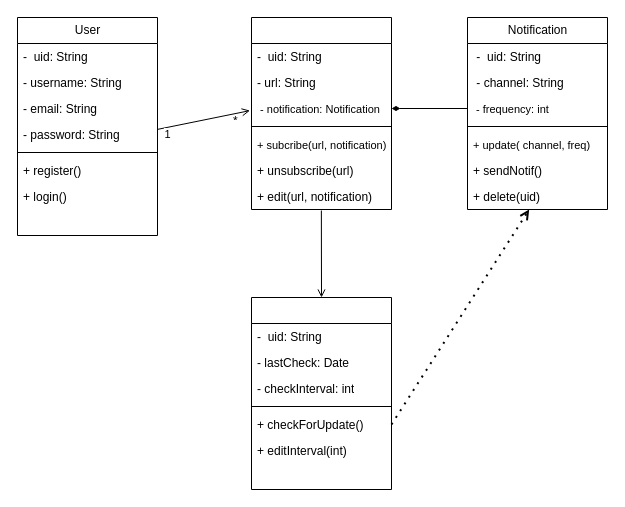
Some shapes in this 625 by 507 pixel diagram are drawn without their labels. The box of each missing label's shape, as (x1, y1, x2, y2) in pixels:
Subscription: (250, 16, 392, 210)
WebSiteMonitoring: (250, 296, 392, 490)
